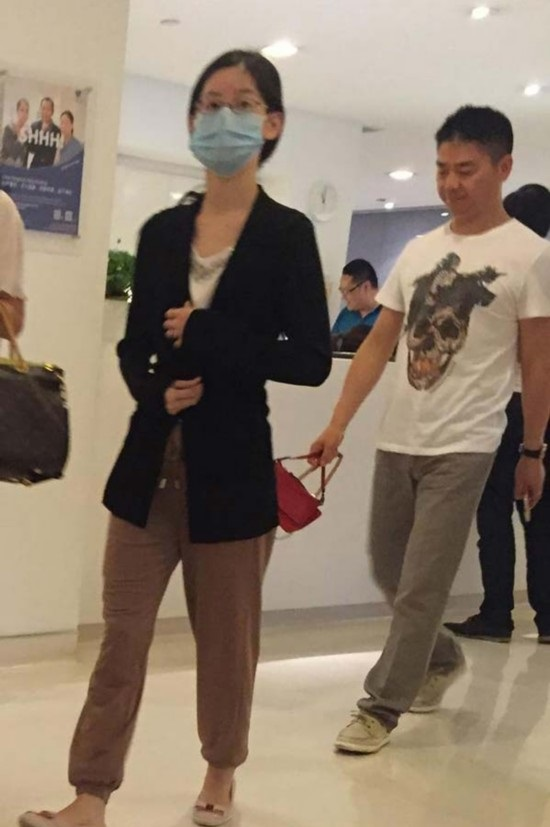face: (435, 139, 493, 213), (340, 276, 361, 311)
face_mask: (191, 65, 262, 172)
